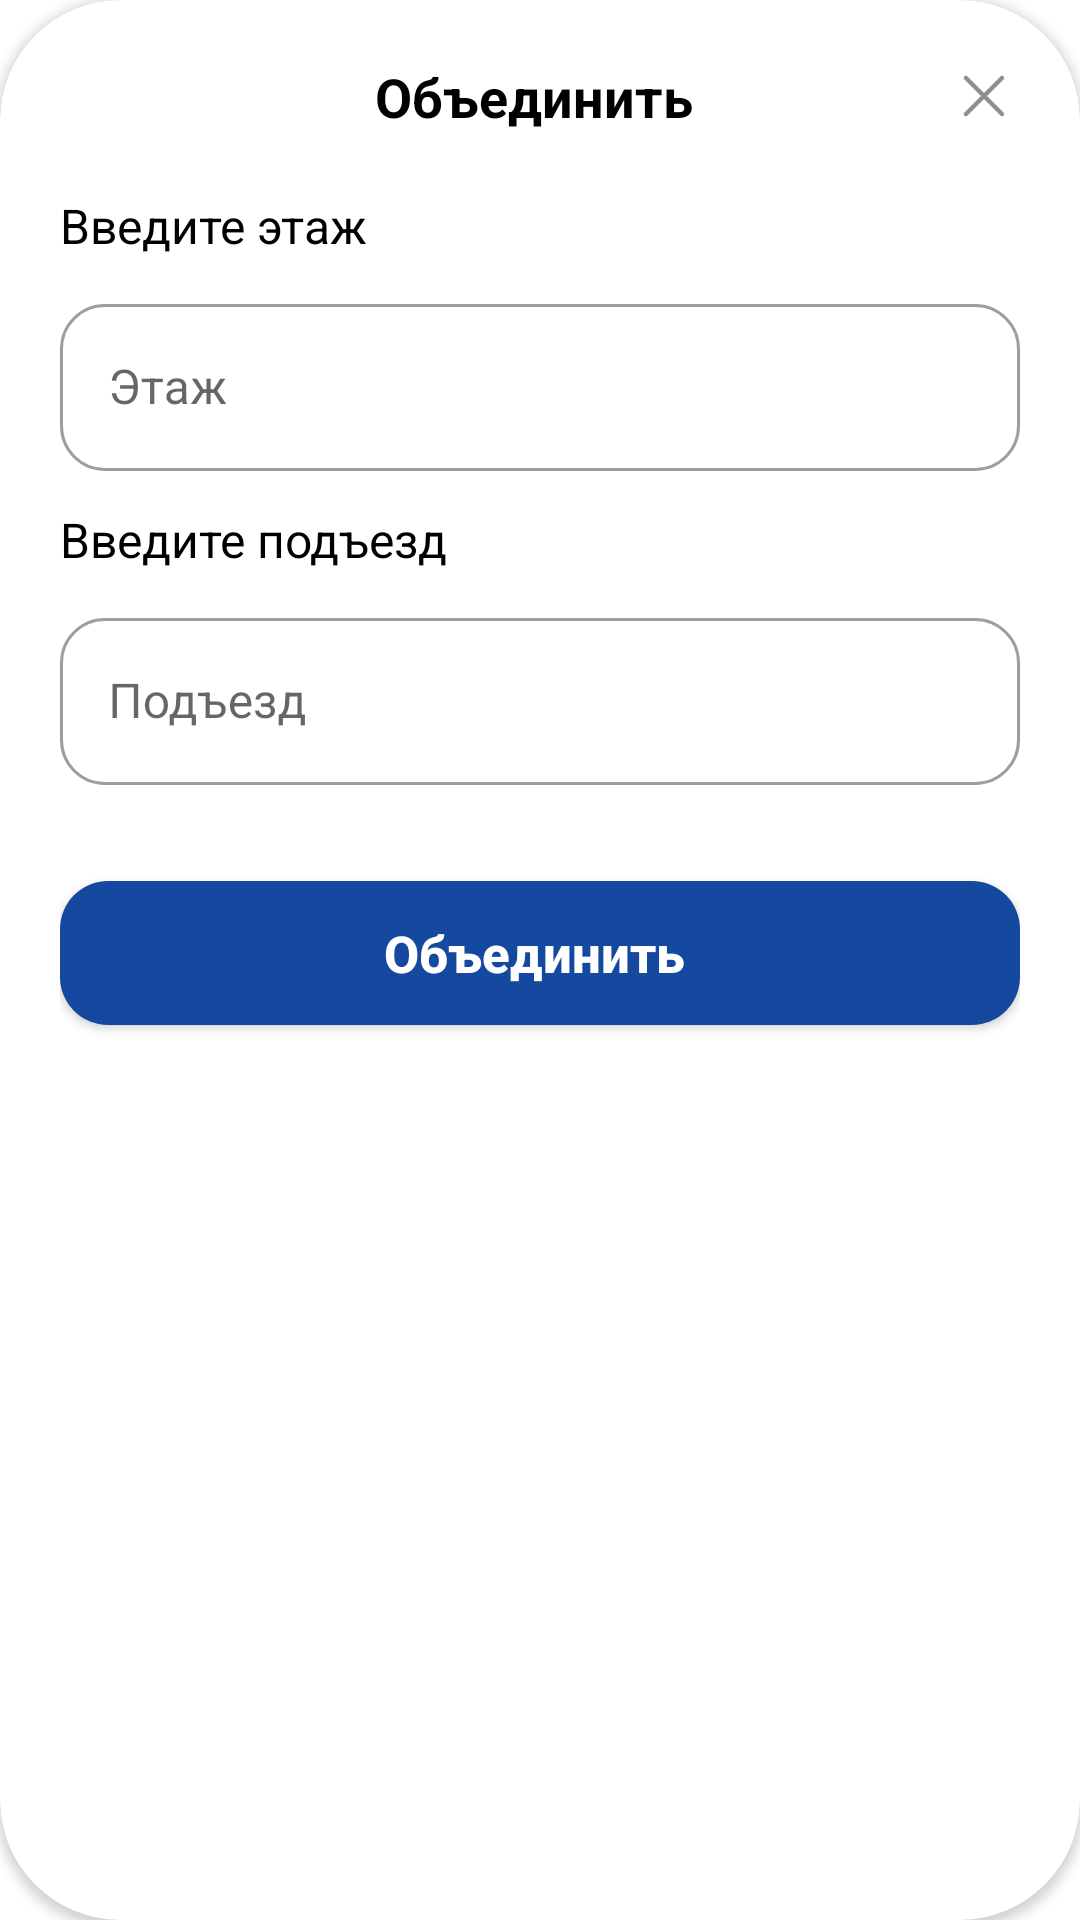

Icons on this 1080w x 1920h Android screen, each with its box as (x1, y1, x2, y2):
cancel: (964, 75, 1004, 116)
